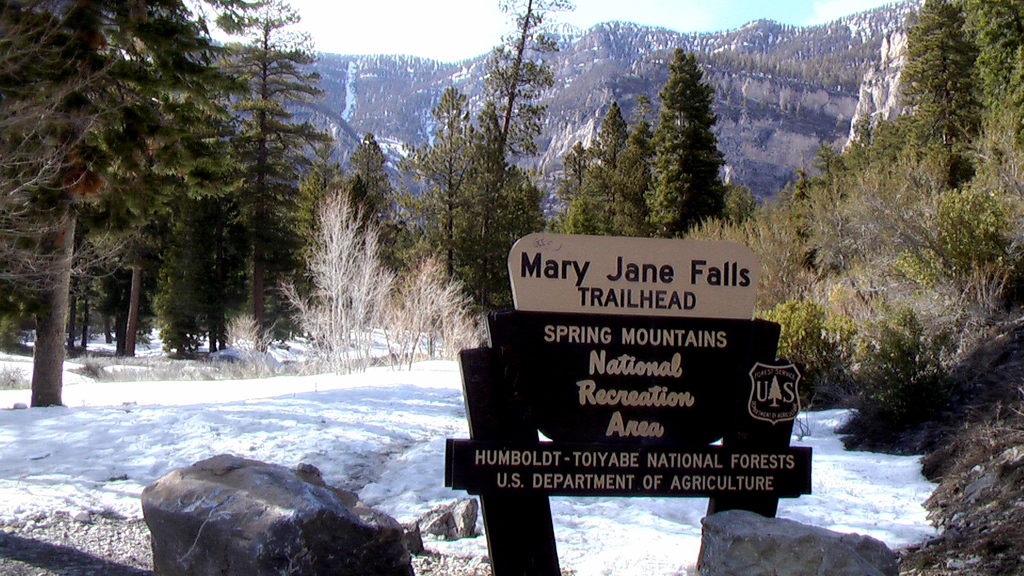Tree: (0, 0, 422, 398), (775, 0, 1023, 449), (422, 0, 582, 321), (549, 35, 771, 252)
